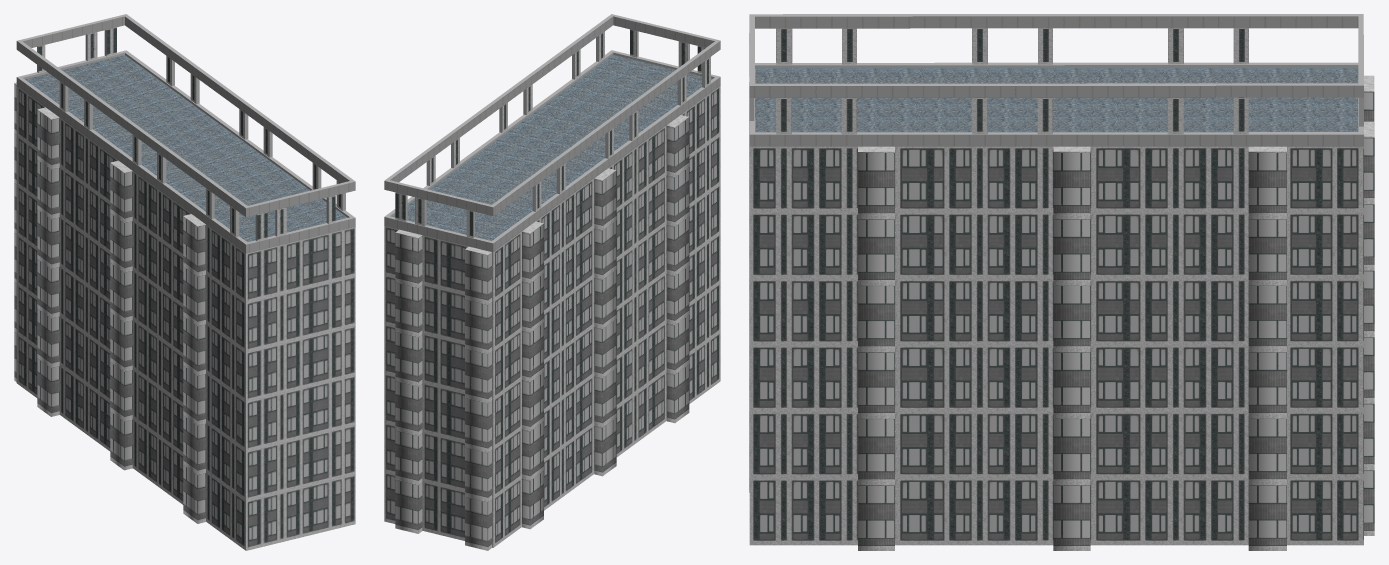
Rendered from build.fbx.
3 views of the same model, side by side, from view 1: azimuth 30°, elevation 25°; view 2: azimuth 150°, elevation 25°; view 3: azimuth 270°, elevation 25° (orthographic). The views are drawn at different scales.
Parts seen in each view (by area): view 1: Cube.001; view 2: Cube.001; view 3: Cube.001.
Part boxes in pixels (<box>): Cube.001: <box>14,14,355,550</box>; Cube.001: <box>384,14,720,550</box>; Cube.001: <box>749,14,1374,550</box>.
Bounding box in the file's own units: 190 × 494 × 608.
